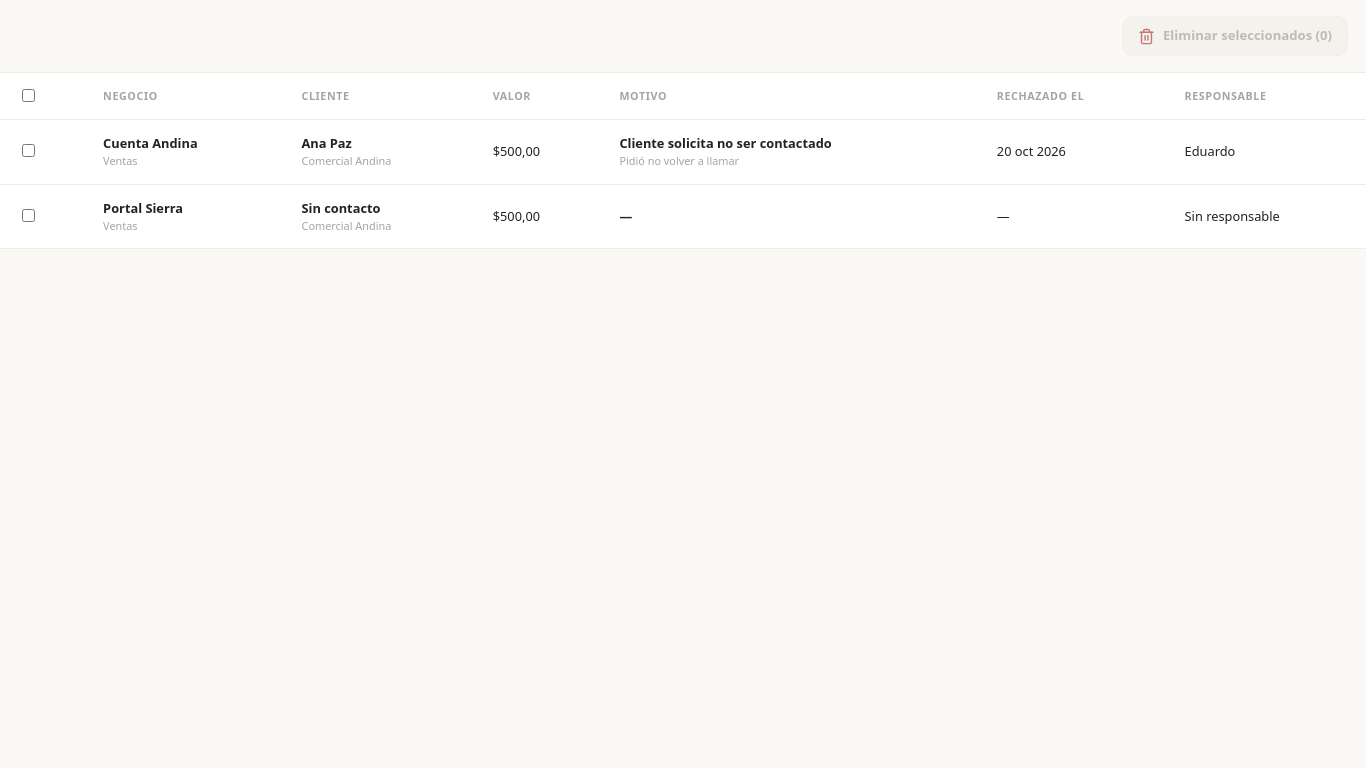
Scenario: seleccionar todos, confirmar y eliminar envía los ids; un error se muestra
The width and height of the screenshot is (1366, 768).
Click the checkbox named "Seleccionar todos": [28, 96] box 22,89 -> 35,102
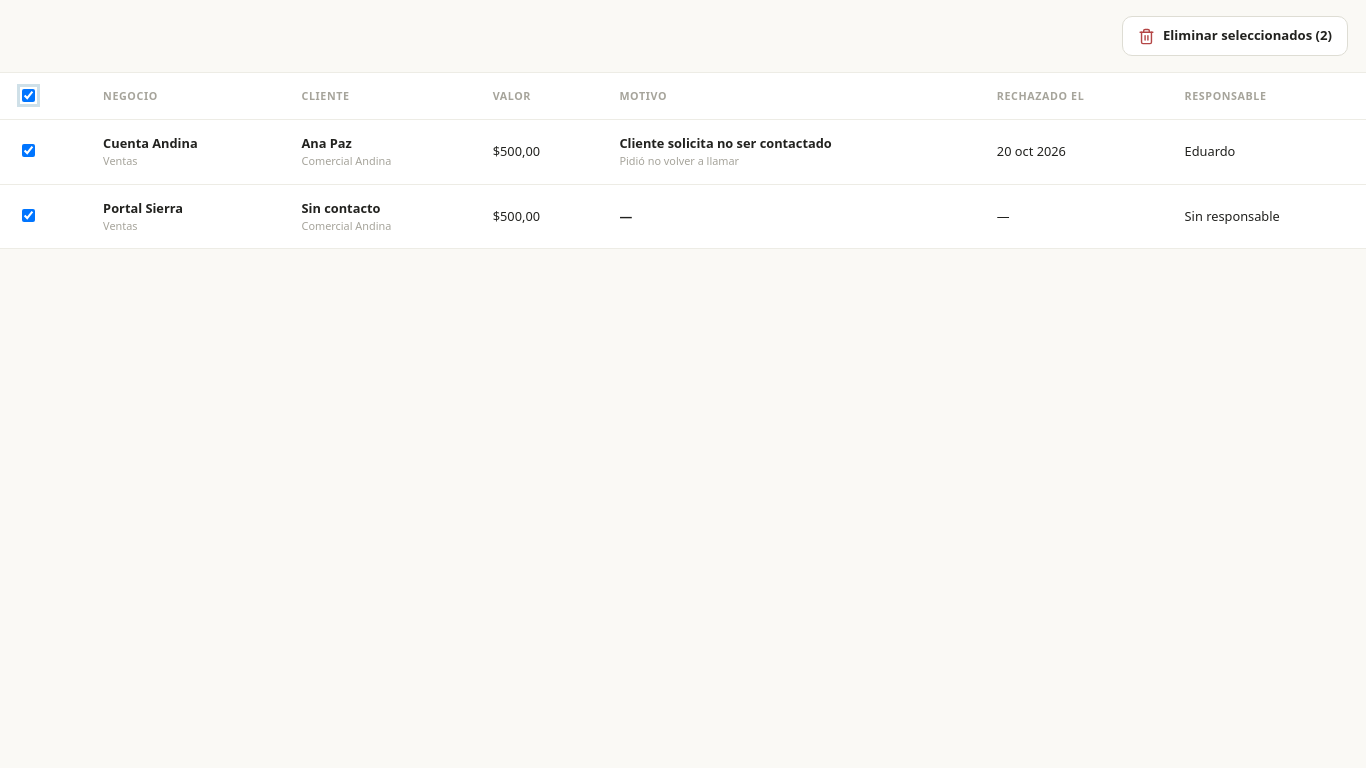
Click the button "Eliminar seleccionados (2)": [1235, 36] box 1122,16 -> 1348,56
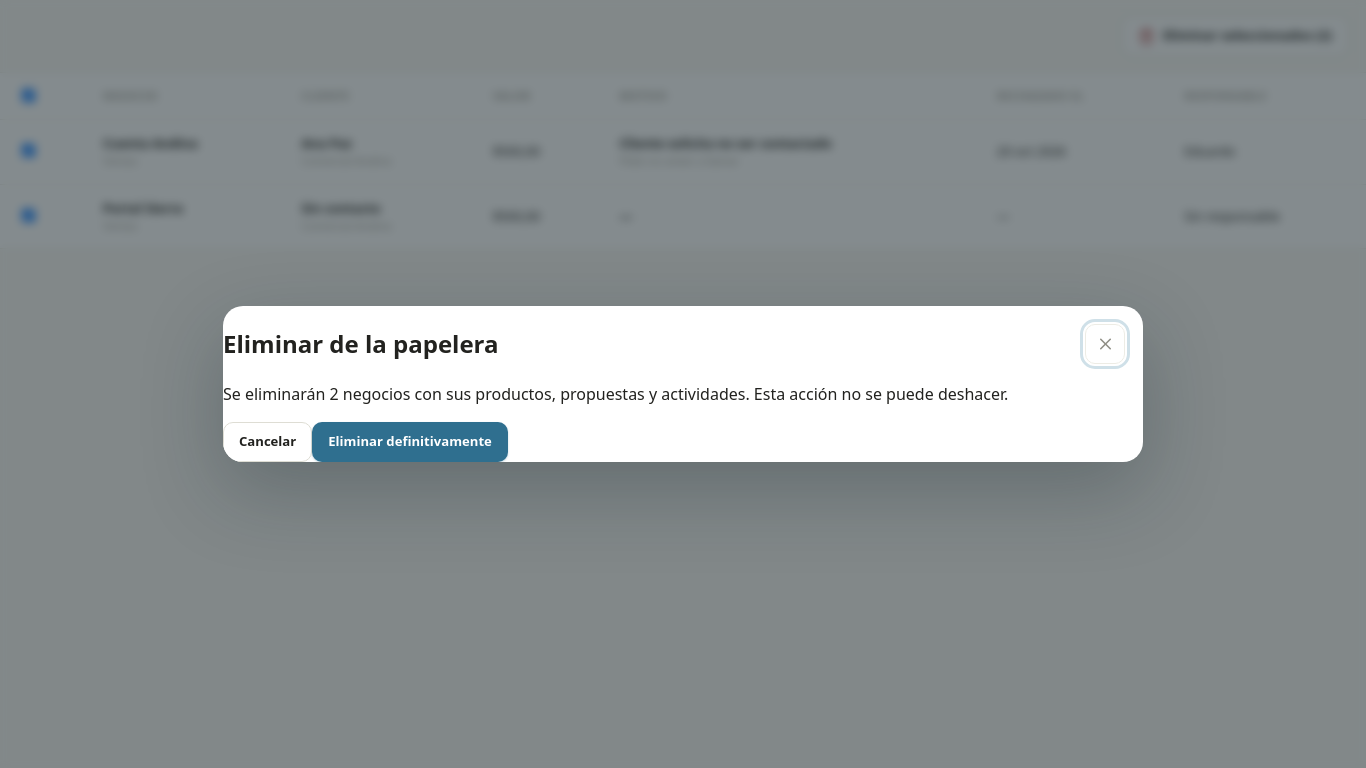
Expected: the dialog "Eliminar de la papelera" shows "Se eliminarán 2 negocios con sus productos, propuestas y actividades.", 223,383 -> 1008,405
Click the button "Eliminar definitivamente": [410, 442] box 312,422 -> 508,462
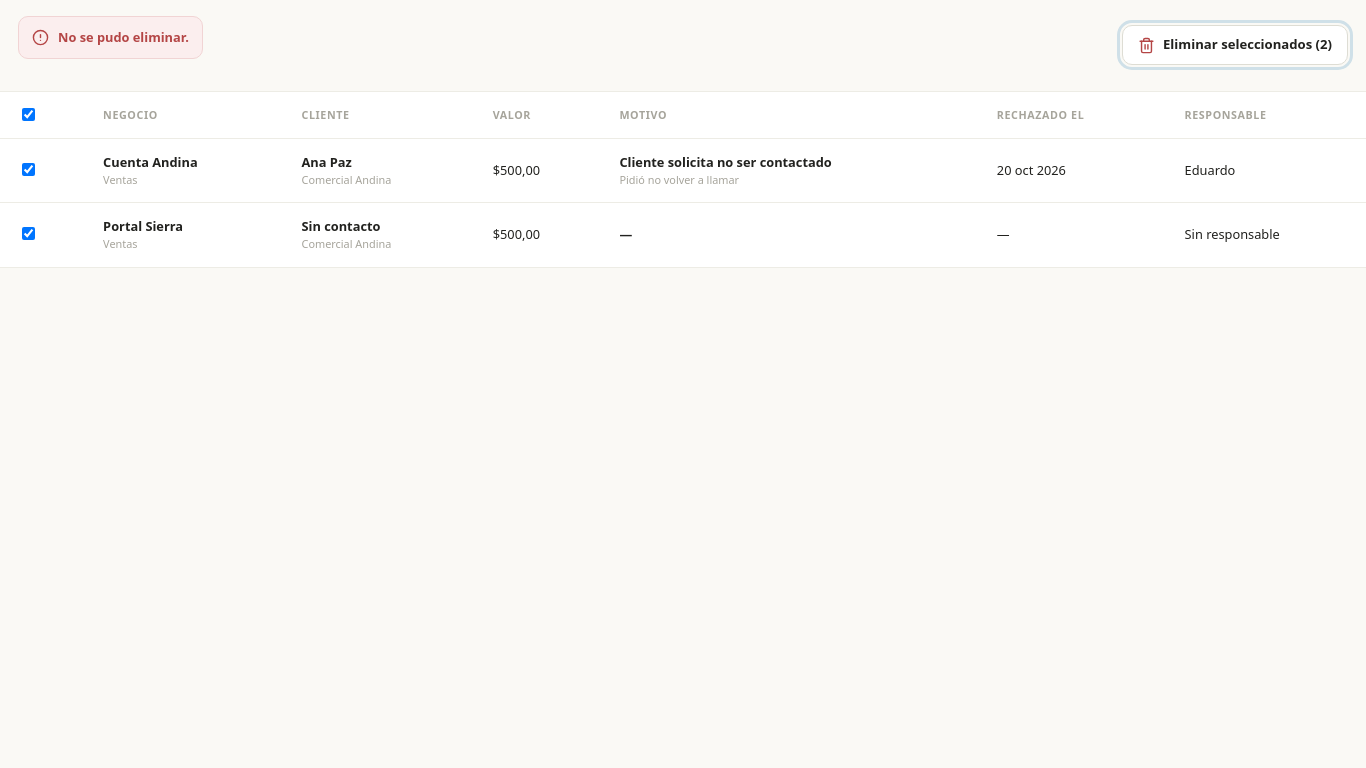
Expected: the button "Eliminar seleccionados (2)" is enabled
Expected: the text "No se pudo eliminar." is shown, 58,28 -> 189,46
Click the button "Eliminar seleccionados (2)": [1235, 45] box 1122,25 -> 1348,65
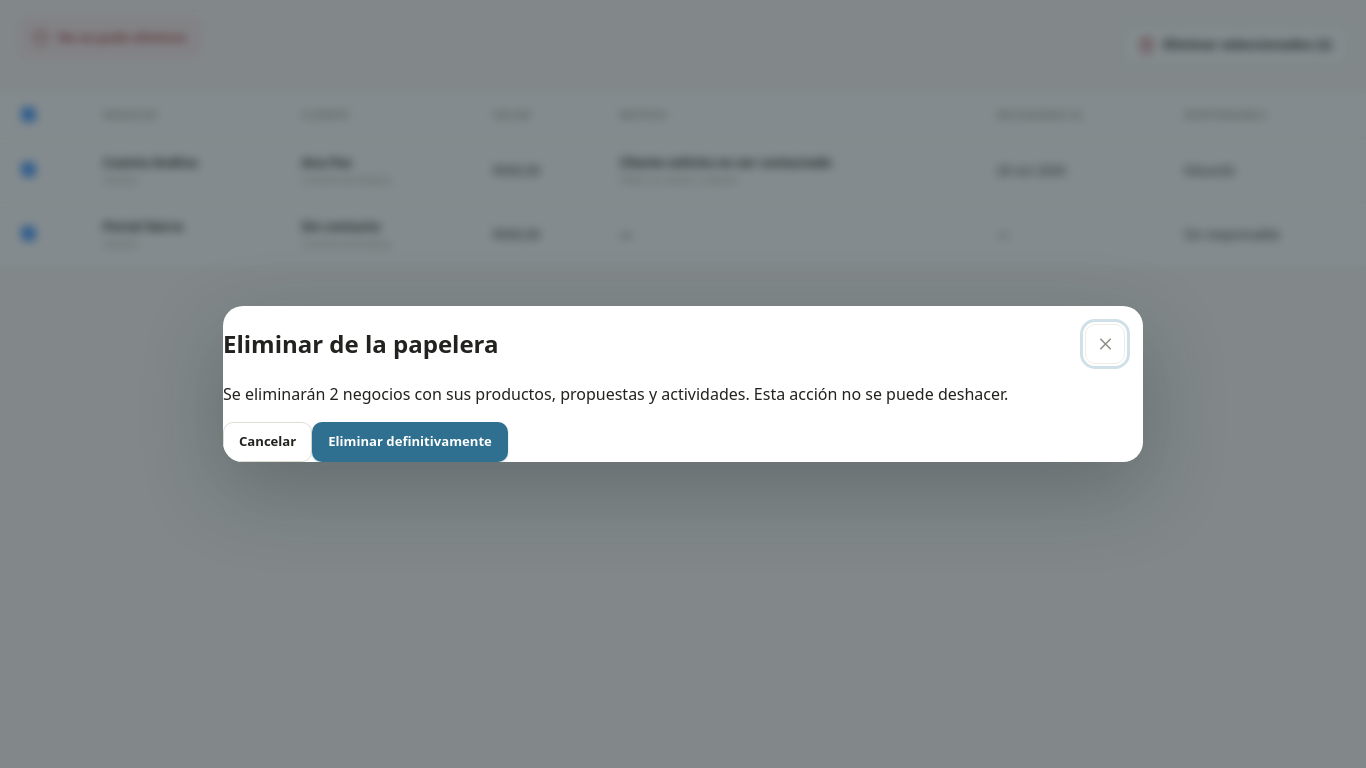
Click the button "Eliminar definitivamente": [410, 442] box 312,422 -> 508,462
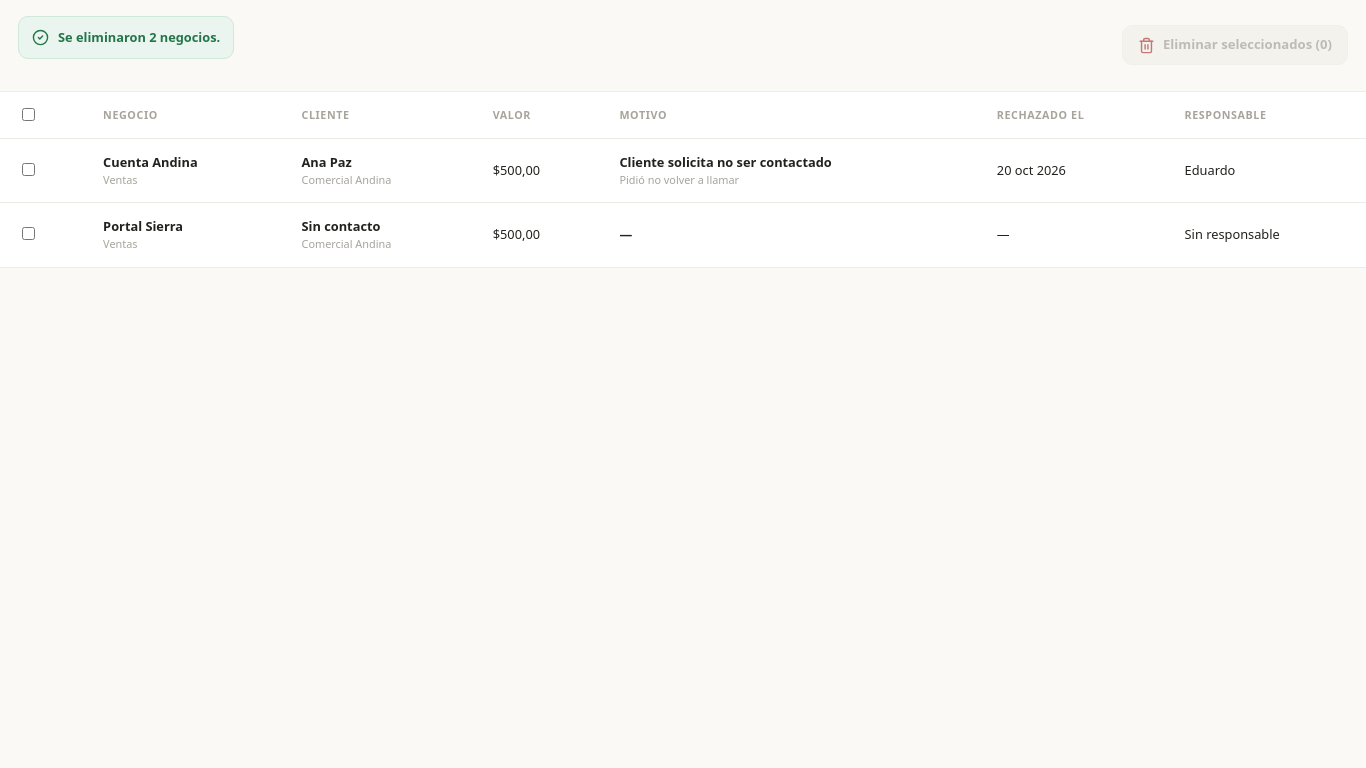
Expected: the text "Se eliminaron 2 negocios." is shown, 58,28 -> 220,46
Expected: the button "Eliminar seleccionados (0)" is disabled, 1122,25 -> 1348,65
